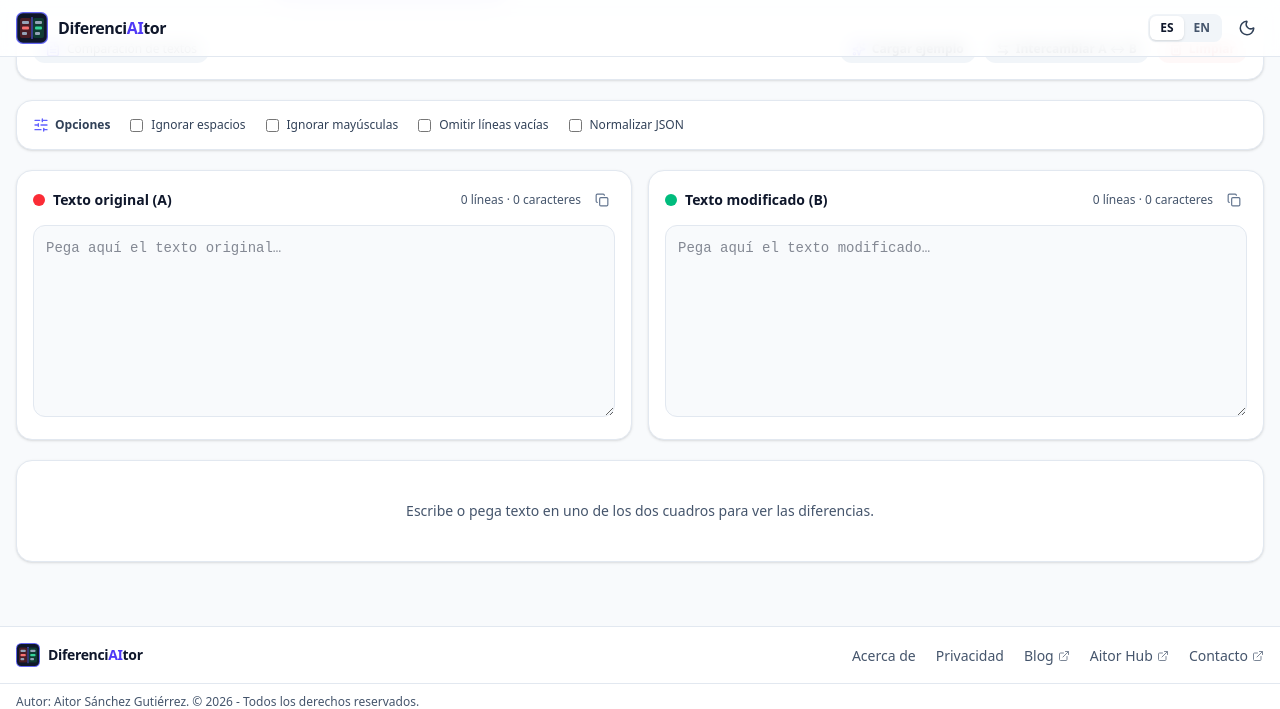
Política de privacidad › se abre desde el pie con las 11 secciones y sin selector de modos
(page scrolled)
Click the link "Privacidad": click(970, 656) [936, 646, 1004, 666]
(page scrolled)
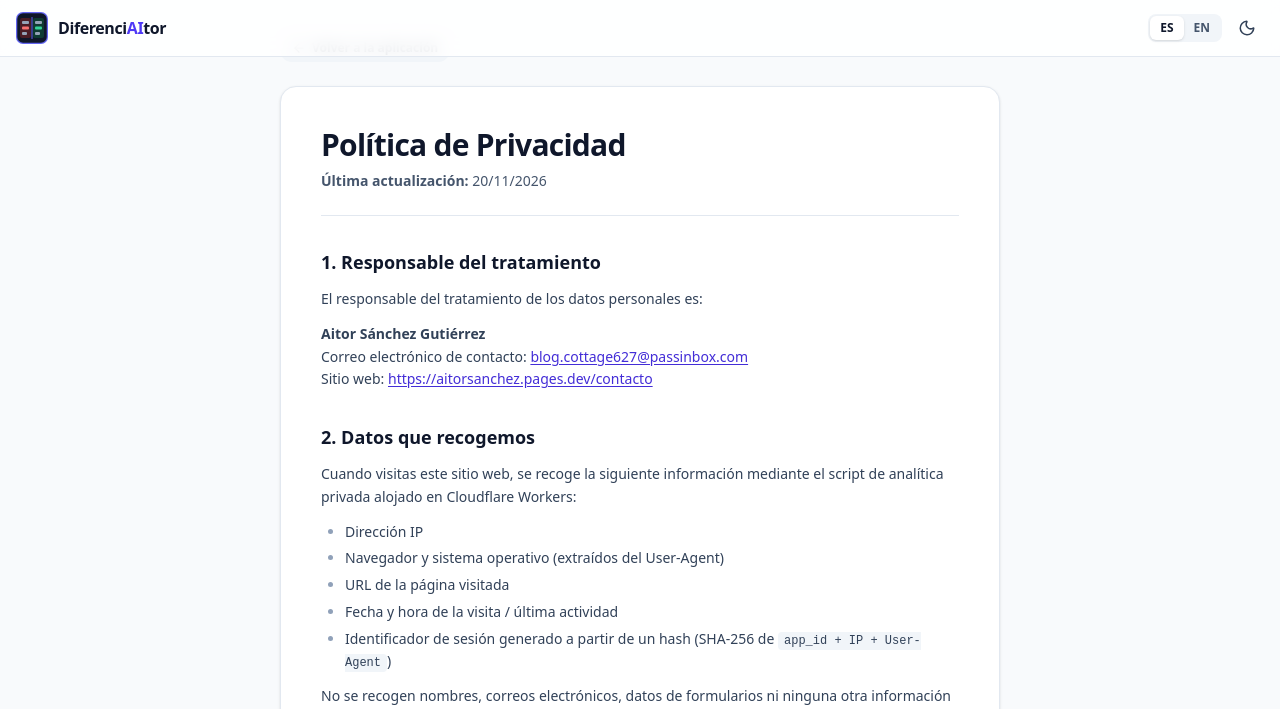
Check: the heading "Política de Privacidad" is shown, box [321, 124, 626, 165]
Check: the text "Última actualización: 20/11/2026" is shown, box [321, 171, 547, 190]
